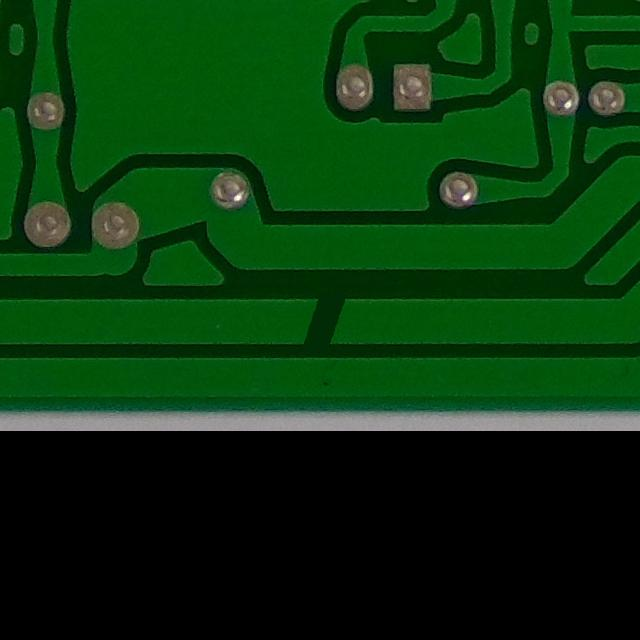open_circuit: (286, 286, 355, 354)
